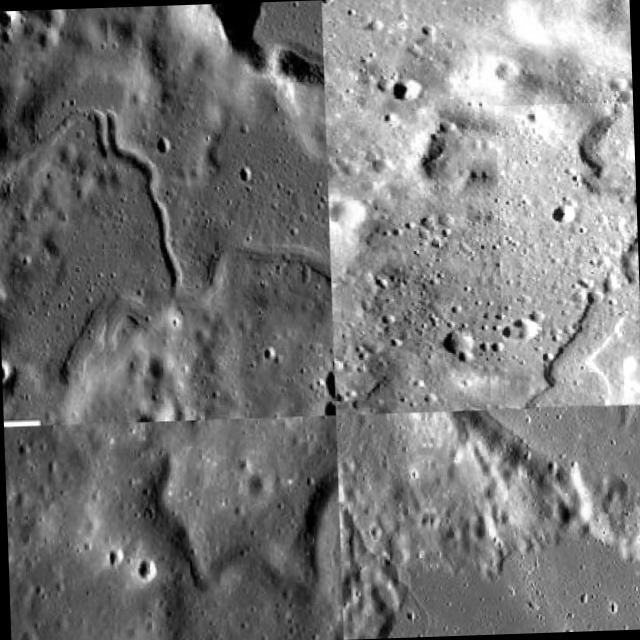rille: (0, 75, 331, 342), (337, 450, 640, 637), (494, 101, 640, 407), (132, 434, 340, 610)
